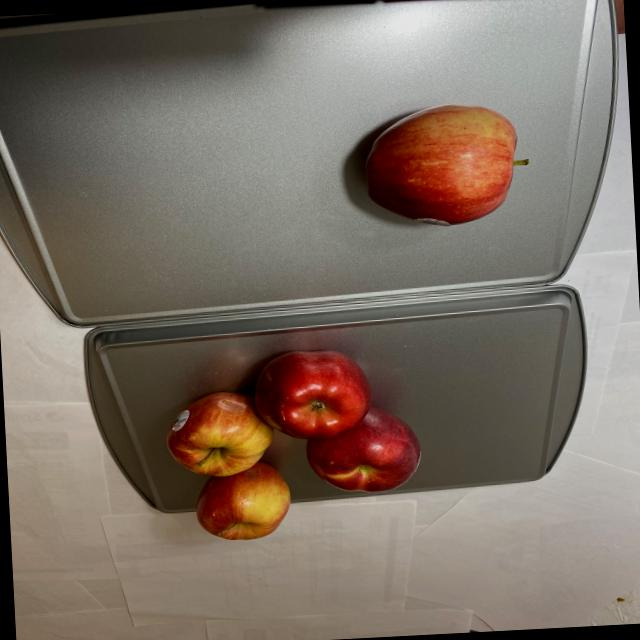apple: (157, 344, 430, 544), (352, 102, 536, 234)
